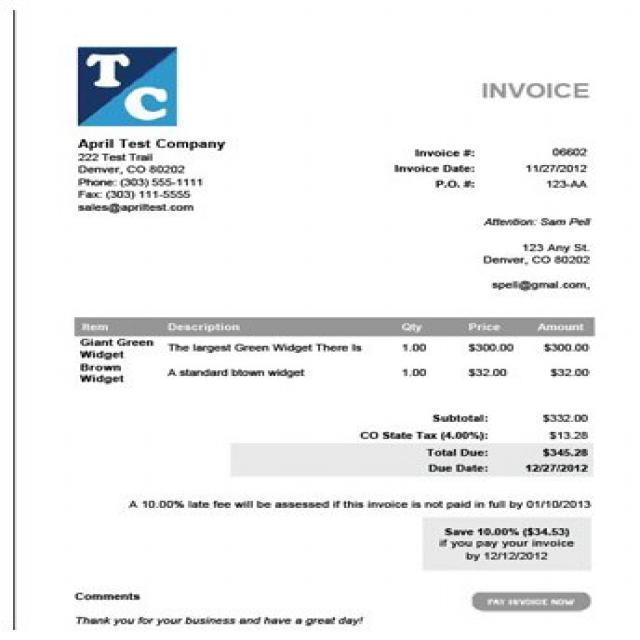due_date: (524, 460, 593, 476)
invoice_date: (522, 160, 595, 177)
invoice_number: (549, 142, 589, 157)
invoice_subtotal: (536, 410, 594, 426)
invoice_total: (538, 446, 593, 459)
item_description: (164, 342, 367, 387)
item_quantity: (392, 342, 431, 386)
item_total_price: (540, 339, 598, 381)
item_unit_price: (465, 339, 521, 386)
supplier_address: (75, 149, 190, 177)
supplier_name: (76, 131, 235, 152)
tax_amount: (548, 427, 594, 444)
